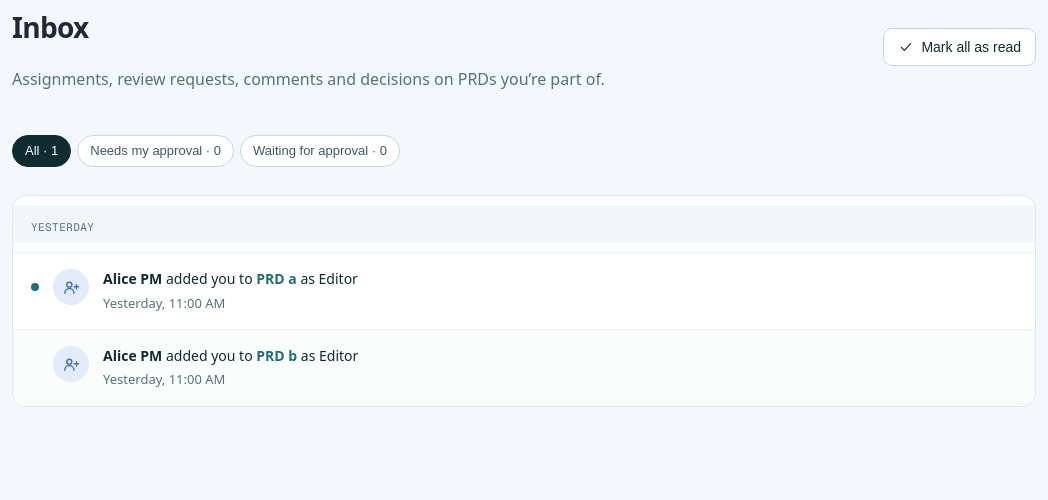
it: InboxPage › says so when a PRD can't be opened any more
The image size is (1048, 500).
Click the button "Alice PM added you to PRD b as Editor Yesterday, 11:00 AM": x=71, y=364 [13, 329, 1035, 406]
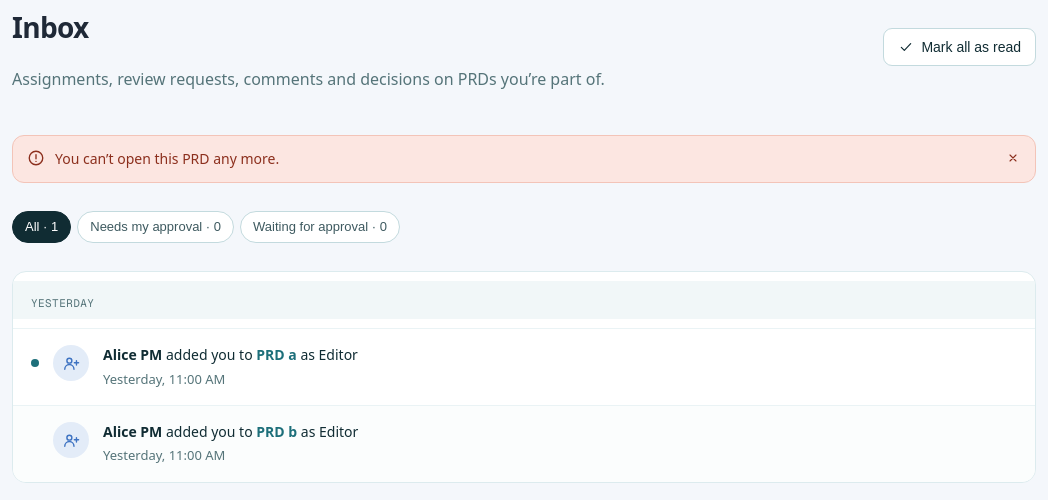
Now the text "You can’t open this PRD any more." is shown, box [55, 148, 279, 168]
